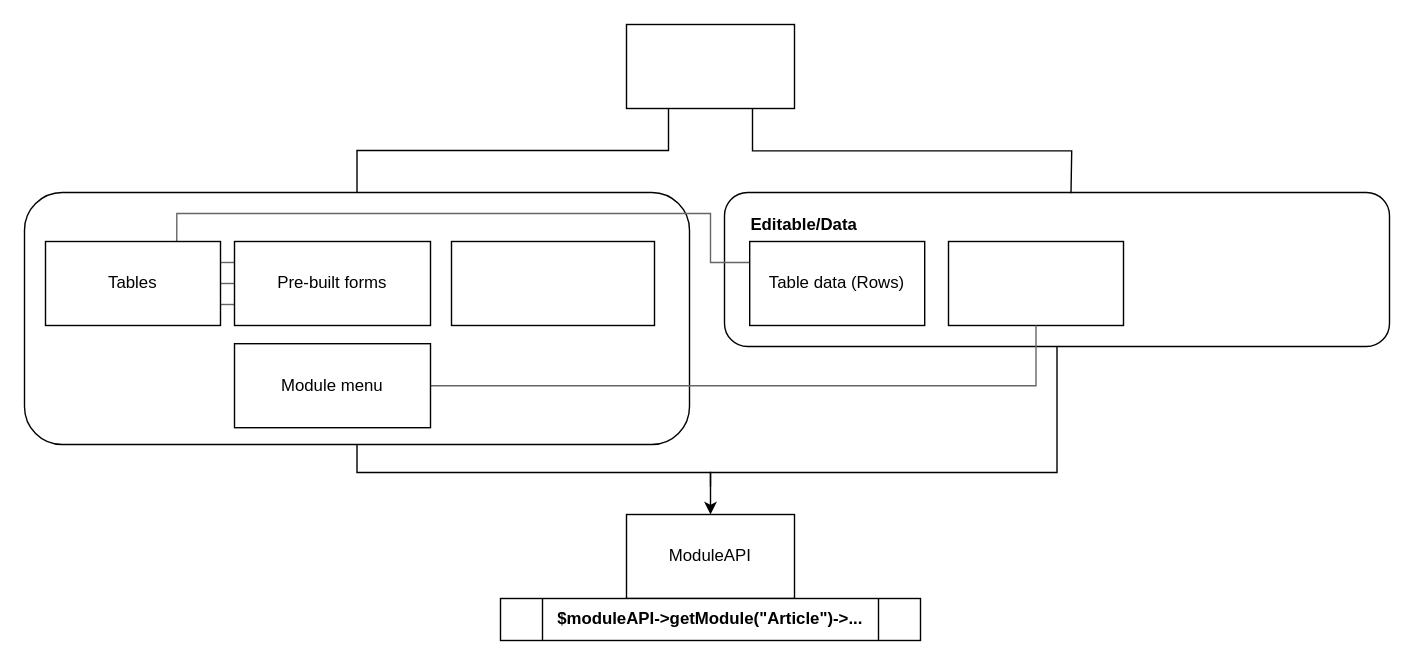
The diagram is 1414 pixels wide and 665 high, and some of its shapes have lost their labels. The box of each missing label's shape, as (x1, y1, x2, y2) in pixels:
In-module template views: (450, 240, 654, 326)
Module: (625, 23, 794, 108)
Module settings: (947, 240, 1124, 326)
Structure: (45, 204, 171, 239)
